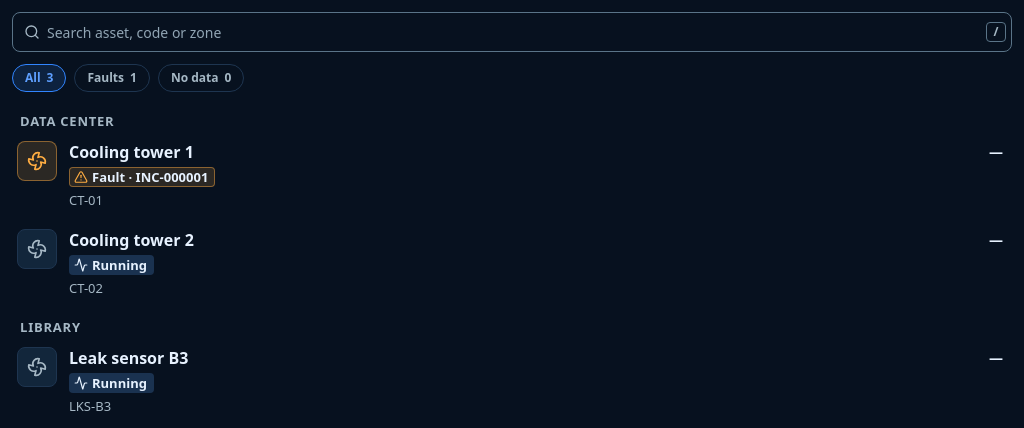
Test: AssetFeed › the list › lists exactly the faults in Faults, with the incident code, and the count matches
The image size is (1024, 428).
Click the tab "Faults 1": (112, 78) [74,64,150,92]
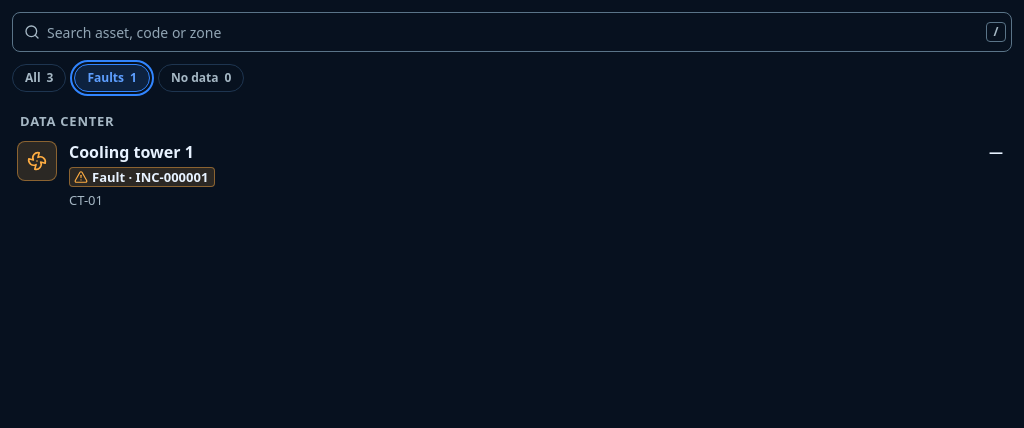
Expected: the text "Fault · INC-000001" is shown, [69,167,215,187]
Now the number of buttons "Cooling tower 1 — Fault · INC-000001 CT-01" is 1, box [8,132,1016,218]
Now the button "Cooling tower 2" is gone
